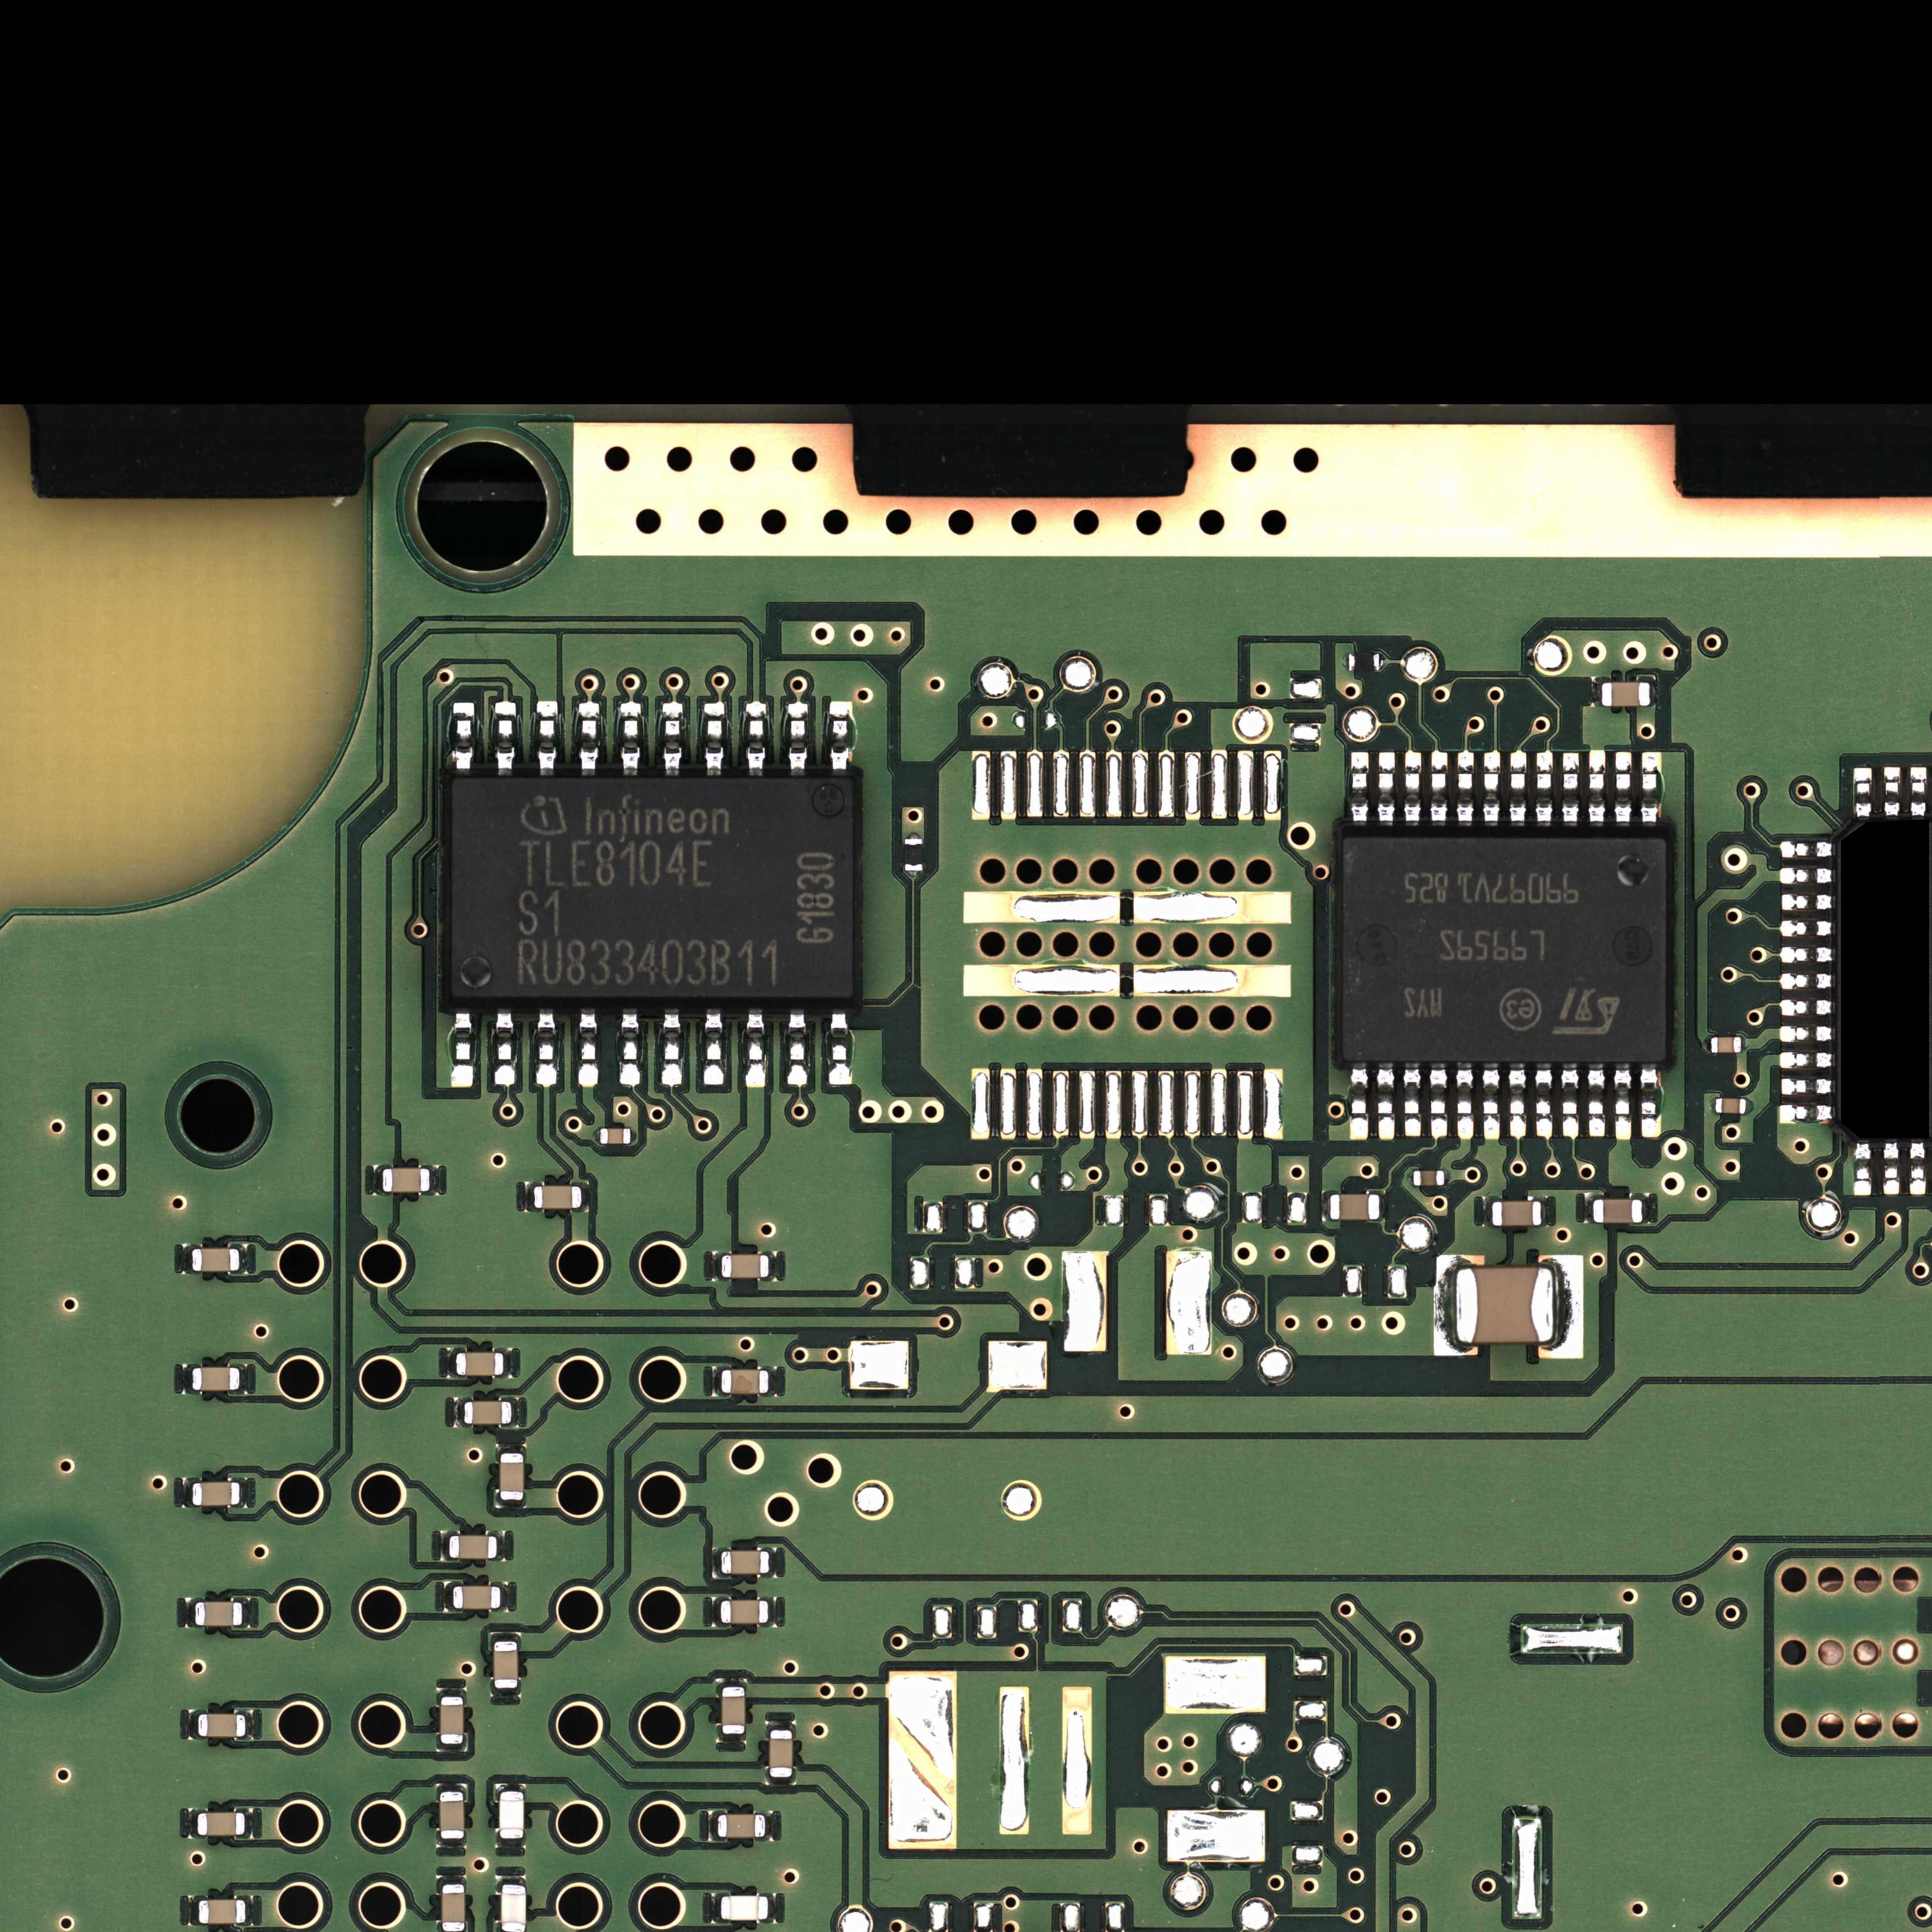Package: (449, 777, 855, 1000), (1343, 835, 1668, 1062), (1454, 1267, 1555, 1346), (1601, 681, 1651, 706), (1491, 1201, 1541, 1226), (1330, 1194, 1380, 1219), (718, 1813, 766, 1838), (499, 1453, 524, 1500), (534, 1185, 582, 1210), (456, 1352, 504, 1376), (722, 1550, 770, 1575), (195, 1601, 242, 1626), (382, 1168, 430, 1192), (453, 1585, 501, 1610), (722, 1254, 770, 1279), (720, 1599, 768, 1624), (196, 1812, 244, 1836), (720, 1895, 768, 1920), (441, 1884, 465, 1932), (499, 1792, 524, 1838), (193, 1247, 239, 1272), (722, 1369, 768, 1394), (494, 1642, 518, 1688), (441, 1792, 465, 1838), (1592, 1200, 1642, 1223), (464, 1401, 511, 1424), (193, 1483, 241, 1506), (193, 1368, 241, 1391), (449, 1536, 497, 1559), (198, 1900, 246, 1923), (441, 1697, 464, 1744), (198, 1714, 246, 1737), (501, 1886, 525, 1930), (770, 1730, 793, 1776), (722, 1688, 745, 1734), (904, 839, 922, 870), (1348, 653, 1380, 671), (600, 1129, 630, 1145), (1716, 1099, 1746, 1115), (1414, 1169, 1444, 1185), (1711, 1037, 1741, 1053)
Solder: (1555, 1254, 1583, 1359), (1435, 1254, 1456, 1355), (451, 1008, 474, 1088), (828, 1008, 851, 1086), (745, 1008, 766, 1090), (830, 701, 853, 775), (451, 702, 474, 775), (536, 1008, 557, 1086), (662, 1008, 683, 1086), (579, 1007, 598, 1088), (704, 1007, 724, 1086), (579, 702, 600, 775), (787, 702, 809, 775), (621, 1008, 640, 1086), (495, 1008, 515, 1086), (787, 1010, 807, 1086), (538, 701, 557, 775), (495, 701, 515, 775), (1640, 1063, 1660, 1138), (704, 702, 724, 775), (663, 702, 683, 775), (747, 702, 766, 775), (621, 702, 640, 775), (1350, 1063, 1368, 1141), (1376, 1063, 1394, 1139), (1483, 1063, 1500, 1139), (1614, 1063, 1631, 1139), (1456, 1063, 1474, 1139), (1587, 1063, 1605, 1139), (1509, 1063, 1527, 1139), (1430, 1063, 1447, 1139), (1403, 1063, 1421, 1138), (1642, 752, 1660, 826), (1509, 752, 1527, 826), (1589, 750, 1605, 826), (1562, 1063, 1578, 1139), (1536, 1063, 1552, 1139), (1352, 752, 1368, 826), (1562, 752, 1578, 826), (1536, 752, 1552, 826), (1458, 752, 1474, 826), (1615, 752, 1631, 826), (1431, 750, 1447, 824), (1405, 752, 1421, 824), (1378, 752, 1394, 824), (1484, 752, 1500, 824), (1780, 1104, 1835, 1122), (1780, 1077, 1835, 1095), (1780, 1051, 1835, 1069), (1780, 1024, 1835, 1042), (1780, 918, 1835, 936), (1780, 945, 1835, 962), (1780, 971, 1835, 989), (1780, 998, 1835, 1016), (1780, 840, 1833, 858), (1909, 1141, 1925, 1196), (1780, 869, 1835, 885), (1780, 895, 1835, 911), (1884, 1141, 1900, 1194), (1854, 1141, 1870, 1194), (1856, 764, 1872, 817), (1884, 764, 1900, 817), (1911, 764, 1927, 817), (490, 1688, 522, 1698), (453, 1398, 464, 1428), (446, 1348, 456, 1378), (239, 1364, 249, 1394), (180, 1364, 191, 1394), (239, 1244, 249, 1274), (430, 1166, 441, 1196), (372, 1164, 382, 1194), (180, 1244, 191, 1274), (442, 1582, 453, 1612), (188, 1709, 198, 1739), (437, 1686, 467, 1697), (184, 1598, 195, 1628), (711, 1251, 722, 1281), (504, 1348, 515, 1378), (766, 1720, 796, 1730), (709, 1893, 720, 1923), (180, 1479, 191, 1507), (188, 1897, 198, 1925), (439, 1532, 449, 1560), (768, 1253, 778, 1281), (711, 1546, 720, 1580), (242, 1598, 251, 1628), (246, 1808, 255, 1838), (437, 1744, 467, 1753), (246, 1709, 255, 1739), (188, 1808, 196, 1838), (437, 1783, 467, 1792), (711, 1366, 720, 1396), (511, 1398, 520, 1428), (524, 1182, 533, 1212), (495, 1444, 525, 1453), (582, 1182, 591, 1212), (717, 1677, 747, 1686), (717, 1734, 747, 1743), (711, 1596, 720, 1626), (495, 1840, 525, 1849), (708, 1810, 717, 1840), (768, 1893, 777, 1923), (495, 1500, 525, 1509), (1592, 678, 1601, 708), (246, 1897, 255, 1925), (241, 1479, 249, 1507), (497, 1532, 506, 1560), (492, 1633, 520, 1642), (501, 1583, 510, 1612), (437, 1875, 465, 1884), (497, 1875, 525, 1884), (770, 1546, 777, 1578), (1651, 676, 1658, 708), (1585, 1192, 1592, 1224), (1484, 1196, 1491, 1228), (437, 1840, 467, 1847), (766, 1778, 796, 1785), (495, 1783, 525, 1790), (768, 1598, 775, 1628), (770, 1368, 777, 1396), (766, 1812, 773, 1840), (1380, 1192, 1387, 1221), (1322, 1192, 1329, 1221), (1642, 1194, 1649, 1223), (1541, 1196, 1546, 1226), (1702, 1037, 1711, 1054), (593, 1125, 600, 1146), (630, 1125, 637, 1146), (1380, 653, 1387, 672), (1341, 651, 1348, 671), (904, 832, 922, 839), (1407, 1169, 1414, 1187), (1746, 1097, 1753, 1115), (1707, 1097, 1714, 1115), (1743, 1035, 1750, 1053), (1445, 1168, 1451, 1187), (904, 872, 922, 878)
